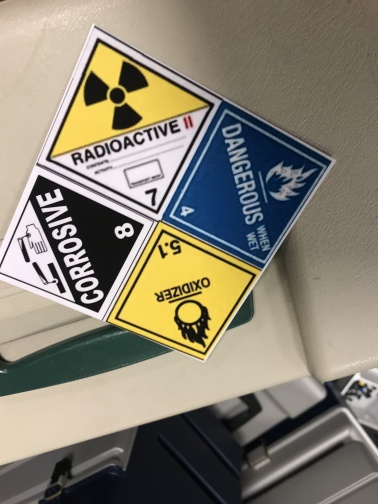Corrosive: (2, 165, 156, 321)
DangerousWhenWet: (162, 98, 332, 269)
Oxidizer: (107, 221, 261, 363)
Radioactive: (38, 26, 223, 224)
